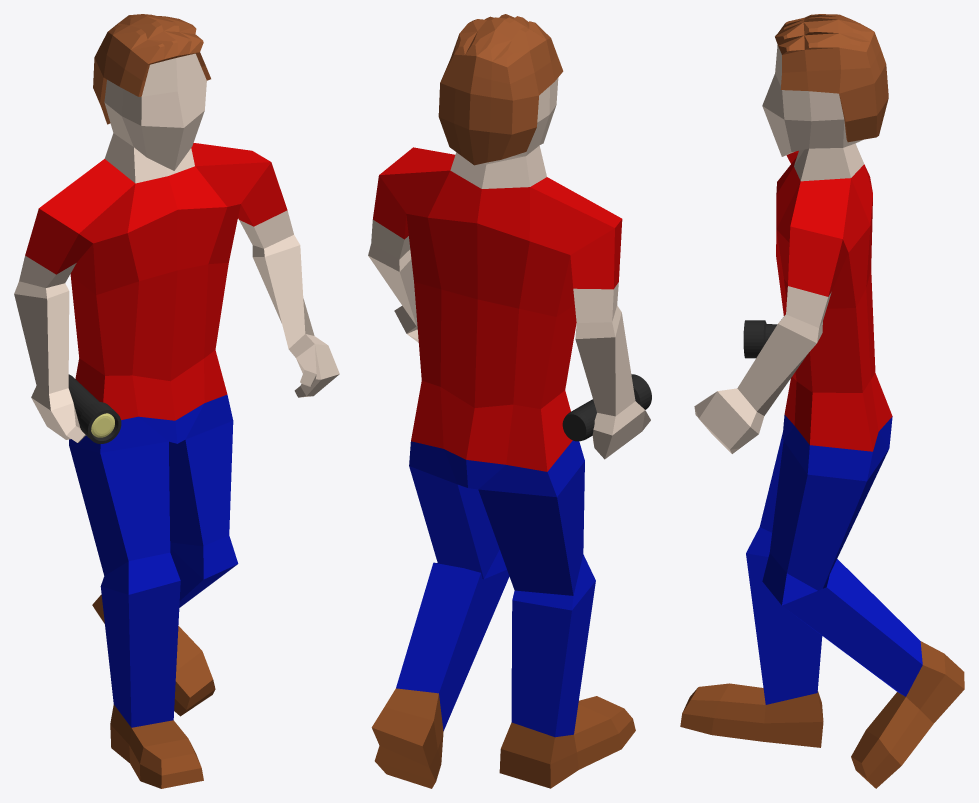
File: Human_walking_31.fbx
3 renders of one model, left to right at view 1: azimuth 30°, elevation 25°; view 2: azimuth 150°, elevation 25°; view 3: azimuth 270°, elevation 25°, orthographic. The views are drawn at different scales.
Visible parts, largest first — view 1: Person.001, Cylinder.001; view 2: Person.001, Cylinder.001; view 3: Person.001, Cylinder.001.
Boxes of the visible parts, box(x1,y1,x2,y2) form: Person.001: box(14, 14, 339, 788); Cylinder.001: box(68, 374, 121, 443); Person.001: box(368, 14, 650, 788); Cylinder.001: box(562, 374, 651, 441); Person.001: box(680, 14, 964, 788); Cylinder.001: box(743, 320, 777, 358).
Bounding box in the file's own units: 0.6027 × 1.58 × 0.5524.
